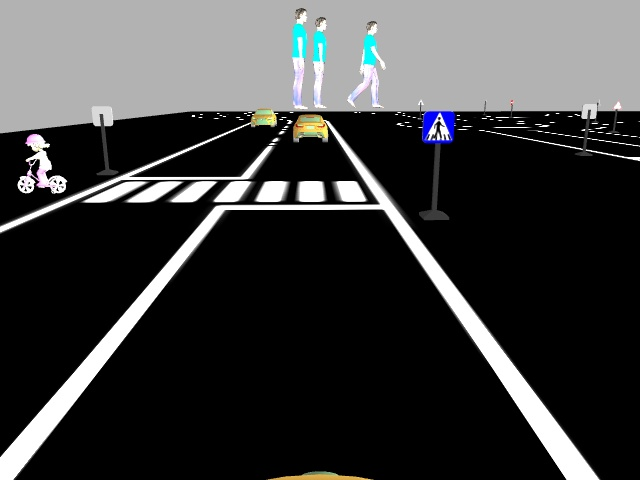Crosswalk: (422, 111, 456, 143)
Pedestrian: (16, 130, 69, 194)
